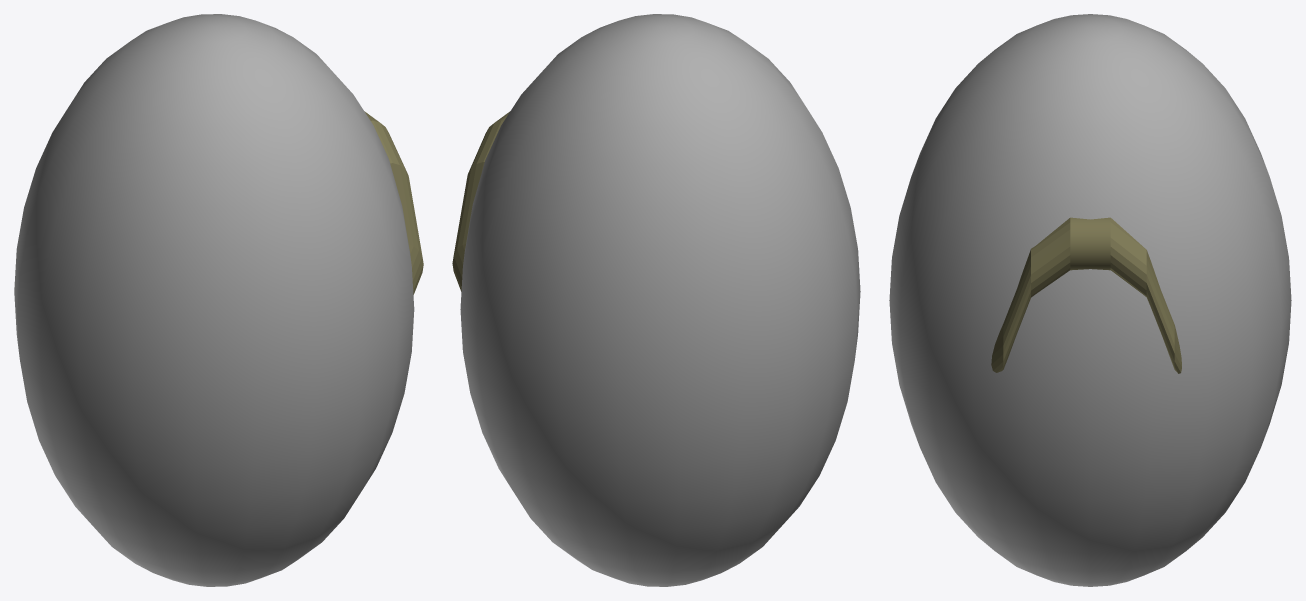
Rendered from CharMustacheBlonde.fbx.
3 renders of one model, left to right at view 1: azimuth 30°, elevation 25°; view 2: azimuth 150°, elevation 25°; view 3: azimuth 270°, elevation 25°, orthographic.
Visible parts, largest first — view 1: pSphere1, pCylinder1; view 2: pSphere1, pCylinder1; view 3: pSphere1, pCylinder1.
Boxes of the visible parts, bbox=[...] form: pSphere1: bbox=[14, 14, 414, 586]; pCylinder1: bbox=[364, 111, 423, 294]; pSphere1: bbox=[460, 14, 860, 586]; pCylinder1: bbox=[452, 111, 510, 291]; pSphere1: bbox=[889, 14, 1291, 586]; pCylinder1: bbox=[991, 217, 1181, 373].
Size of the model in its own units: 2.88 by 4.32 by 2.88.
